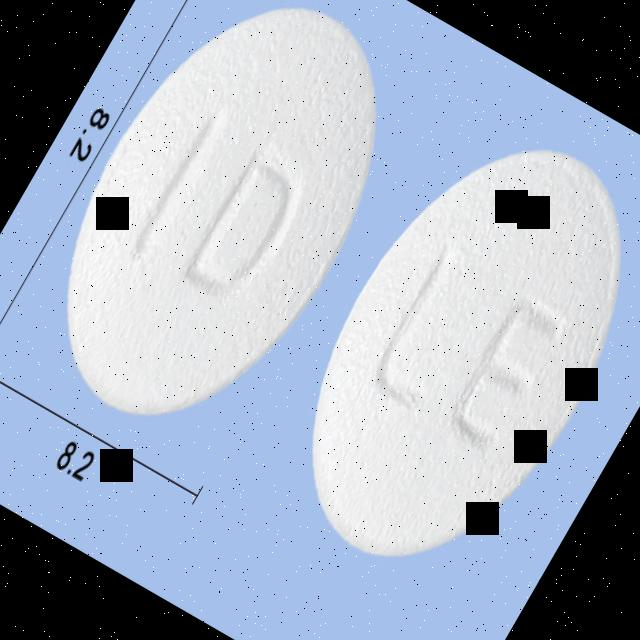Levofexin - 250mg: (0, 0, 438, 468), (248, 98, 640, 611)
